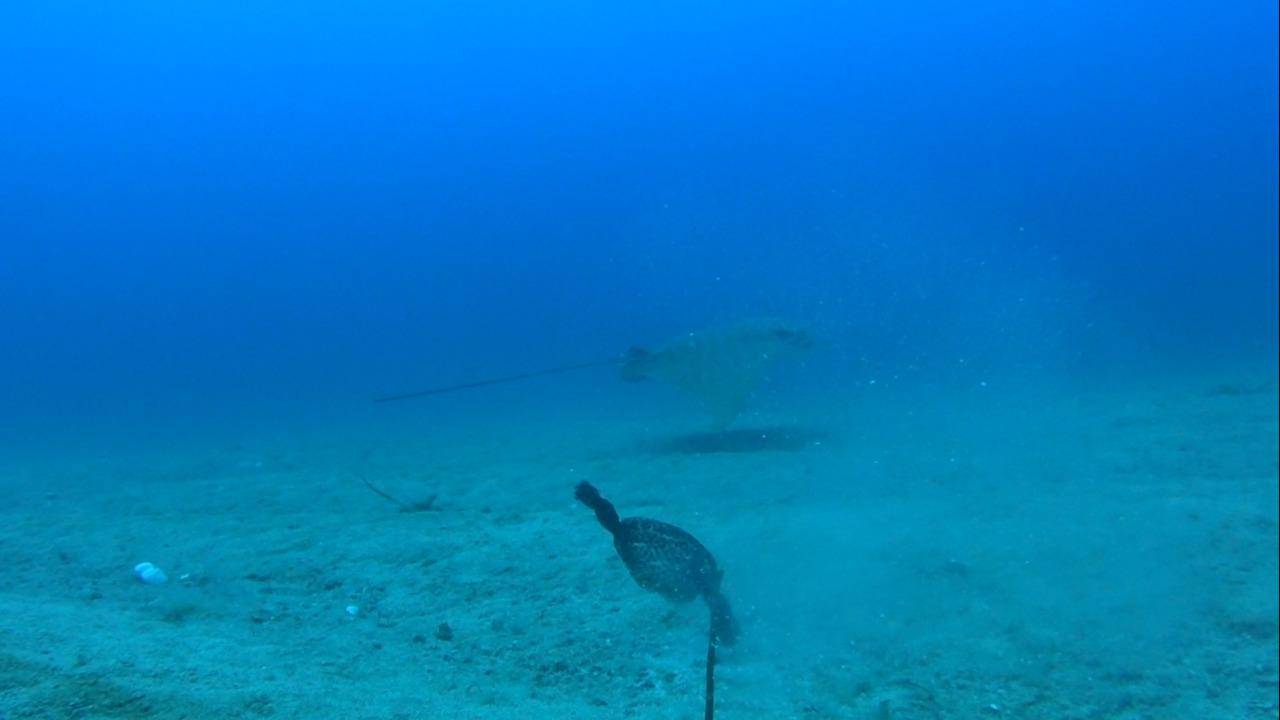myliobatis: (362, 312, 835, 439)
